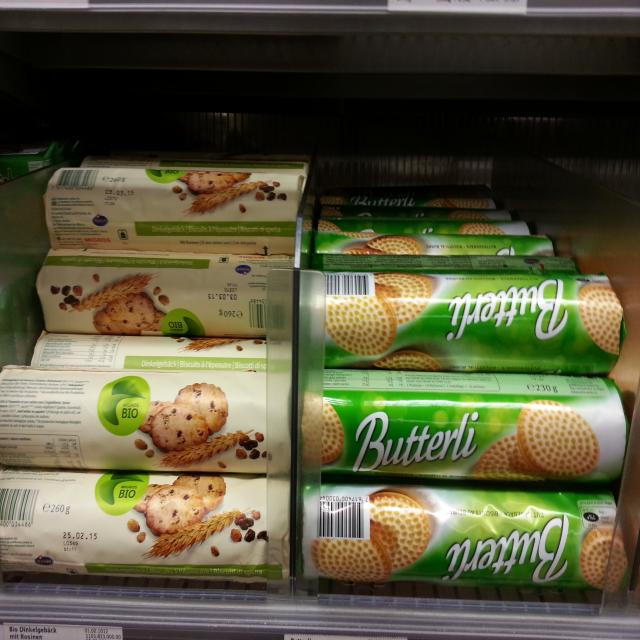Biscuits: (293, 478, 627, 598), (302, 368, 628, 485), (0, 469, 290, 582), (304, 271, 621, 374), (0, 368, 291, 469), (42, 169, 298, 255), (37, 256, 294, 334)
